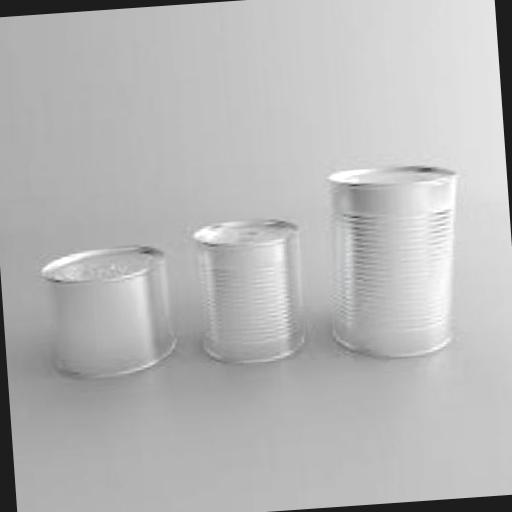metal: (318, 159, 470, 366), (36, 240, 178, 384), (189, 212, 306, 366)
